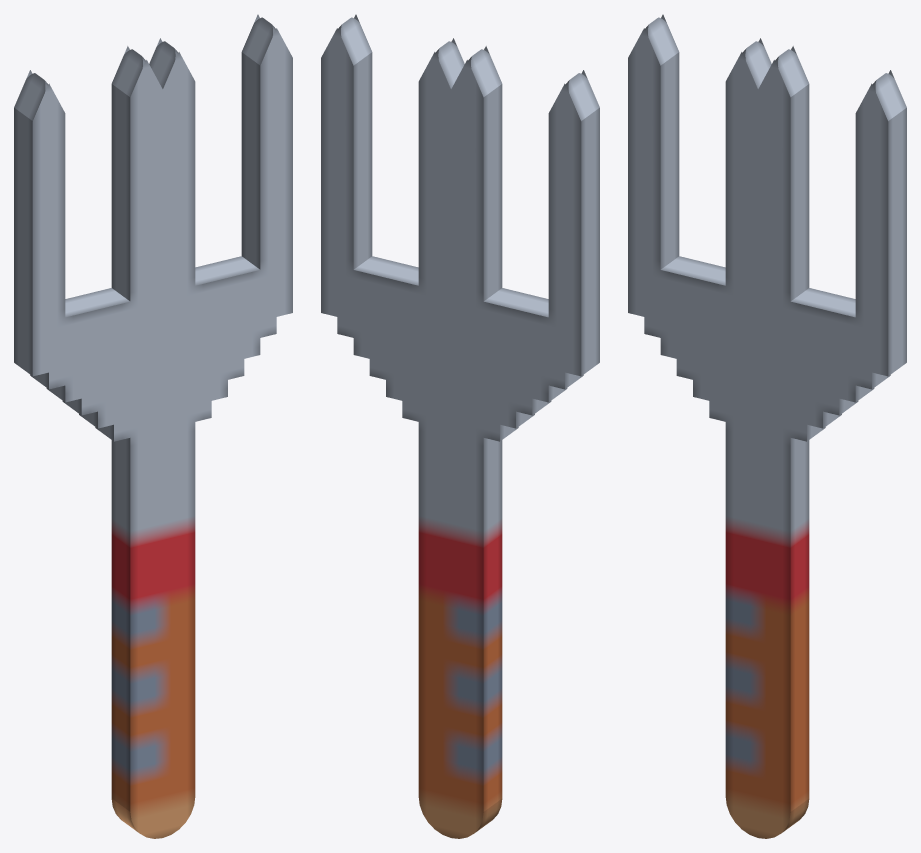
The model's file is garfo_final.fbx.
3 renders of one model, left to right at view 1: azimuth 30°, elevation 25°; view 2: azimuth 150°, elevation 25°; view 3: azimuth 330°, elevation 25°, orthographic.
Parts seen in each view (by area): view 1: generated; view 2: generated; view 3: generated.
Part boxes in pixels (left/top/right/bottom): generated: left=14, top=14, right=292, bottom=838; generated: left=321, top=14, right=599, bottom=838; generated: left=628, top=14, right=906, bottom=838.
Size of the model in its own units: 8 by 23 by 1.
